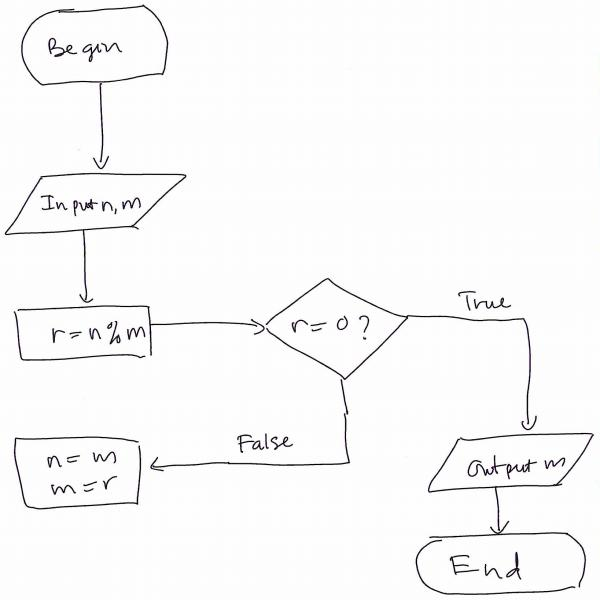arrow: (148, 385, 374, 500), (422, 302, 550, 426), (153, 310, 269, 344), (70, 235, 102, 301), (92, 81, 115, 172), (478, 490, 516, 530)
data: (259, 280, 406, 381), (5, 172, 191, 234)
process: (12, 432, 140, 507)
terminator: (412, 533, 588, 592), (26, 10, 176, 74)
text: (38, 452, 130, 497), (43, 35, 152, 69), (38, 317, 145, 350), (443, 552, 539, 588), (44, 190, 148, 219), (231, 425, 310, 463), (292, 307, 380, 341), (468, 448, 566, 478), (454, 284, 522, 318)
